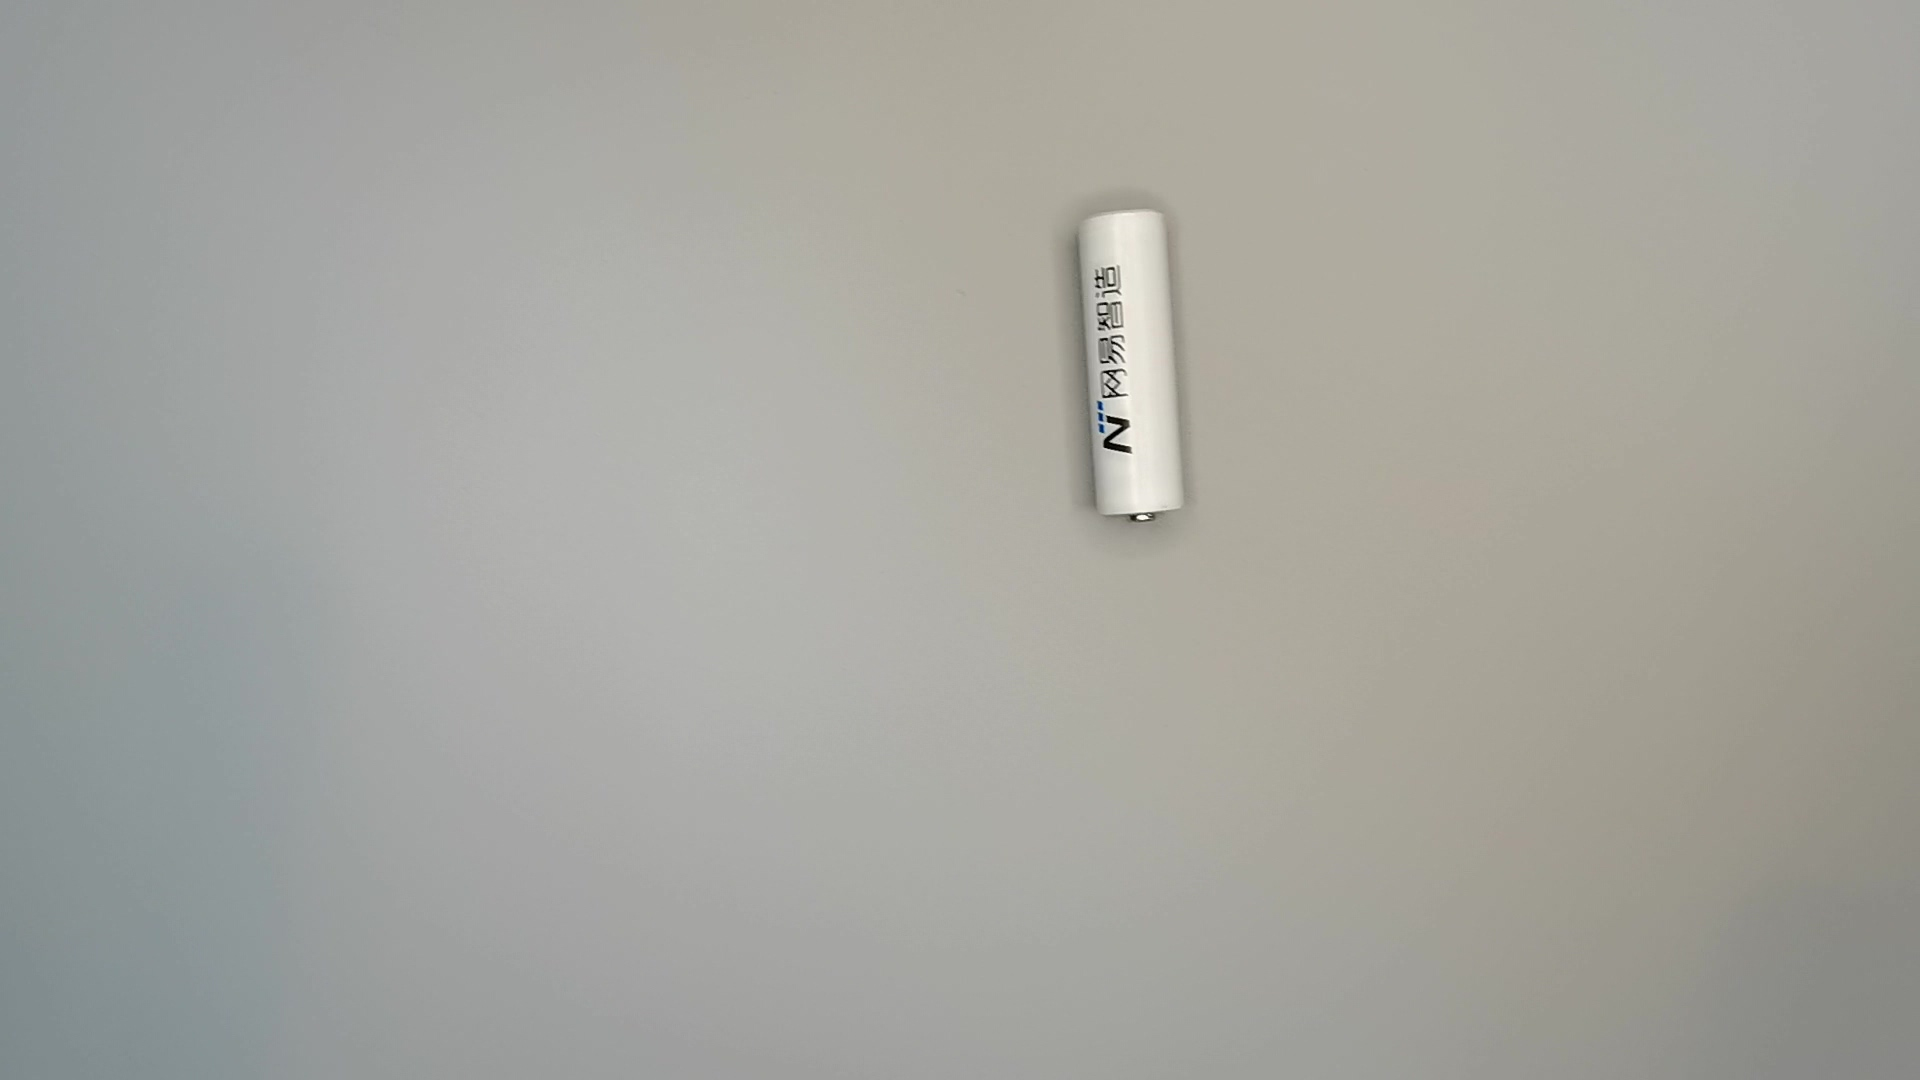battery: (1067, 200, 1200, 531)
